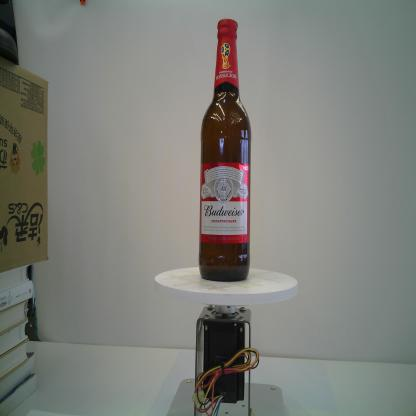Alcohol: (197, 17, 254, 284)
